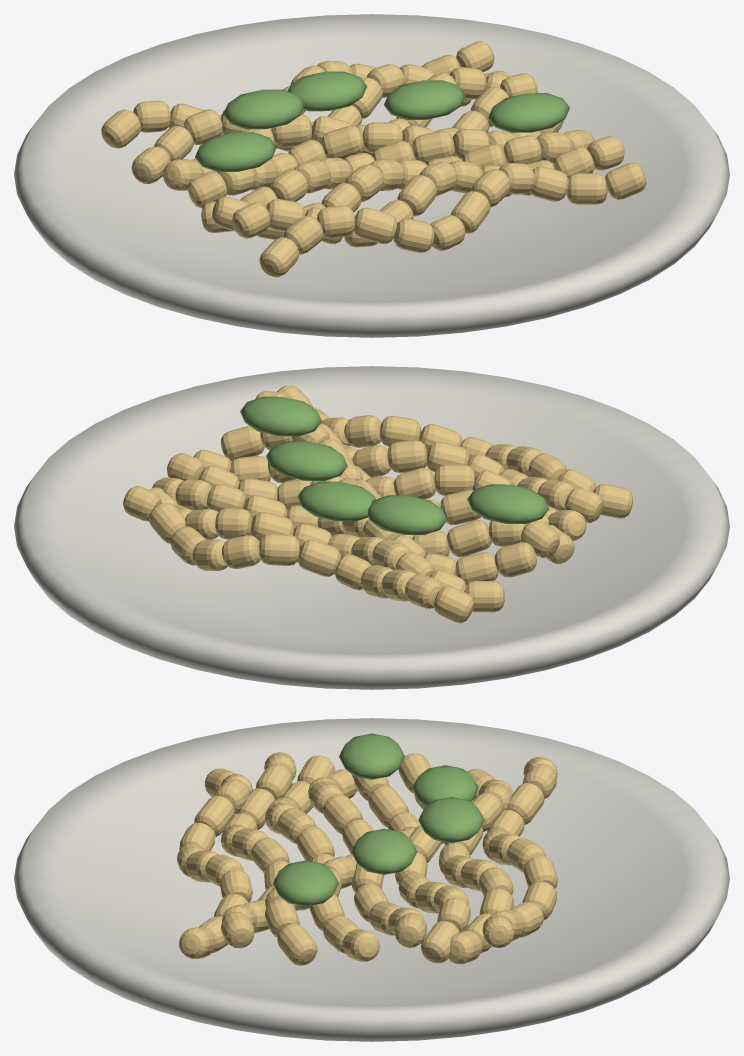
File: FoodNoodles.fbx
3 views of the same model, one above another, from view 1: azimuth 30°, elevation 25°; view 2: azimuth 150°, elevation 25°; view 3: azimuth 270°, elevation 25° (orthographic).
Visible parts, largest first — view 1: Ceramic rolled rim plate, Cabbage.001, Cabbage.003, Cabbage, Cabbage.004, Cabbage.002, Dry stir-fried noodle.003, Dry stir-fried noodle.010, Dry stir-fried noodle.011, Dry stir-fried noodle, Dry stir-fried noodle.004, Dry stir-fried noodle.053 (+46 smaller); view 2: Ceramic rolled rim plate, Cabbage.004, Cabbage, Cabbage.003, Cabbage.001, Cabbage.002, Dry stir-fried noodle.050, Dry stir-fried noodle.089, Dry stir-fried noodle.090, Dry stir-fried noodle.060, Dry stir-fried noodle.035, Dry stir-fried noodle.018 (+45 smaller); view 3: Ceramic rolled rim plate, Cabbage.003, Cabbage.004, Cabbage.002, Cabbage, Cabbage.001, Dry stir-fried noodle.035, Dry stir-fried noodle.071, Dry stir-fried noodle.050, Dry stir-fried noodle.003, Dry stir-fried noodle.086, Dry stir-fried noodle.039 (+44 smaller).
Boxes of the visible parts, box(x1,y1,x2,y2) form: Ceramic rolled rim plate: box(14, 14, 729, 337); Cabbage.001: box(223, 89, 304, 129); Cabbage.003: box(384, 80, 465, 119); Cabbage: box(195, 132, 276, 171); Cabbage.004: box(488, 93, 569, 132); Cabbage.002: box(287, 71, 366, 111); Dry stir-fried noodle.003: box(353, 207, 397, 243); Dry stir-fried noodle.010: box(566, 173, 607, 204); Dry stir-fried noodle.011: box(605, 162, 646, 199); Dry stir-fried noodle: box(259, 237, 299, 277); Dry stir-fried noodle.004: box(393, 218, 434, 252); Dry stir-fried noodle.053: box(321, 125, 364, 159); Ceramic rolled rim plate: box(14, 366, 729, 689); Cabbage.004: box(240, 396, 321, 436); Cabbage: box(467, 484, 548, 523); Cabbage.003: box(266, 441, 347, 480); Cabbage.001: box(367, 495, 447, 534); Cabbage.002: box(297, 481, 375, 521); Dry stir-fried noodle.050: box(447, 520, 491, 557); Dry stir-fried noodle.089: box(297, 539, 340, 576); Dry stir-fried noodle.090: box(259, 533, 299, 565); Dry stir-fried noodle.060: box(495, 542, 536, 577); Dry stir-fried noodle.035: box(221, 425, 264, 461); Dry stir-fried noodle.018: box(387, 440, 427, 472); Ceramic rolled rim plate: box(14, 718, 729, 1041); Cabbage.003: box(351, 828, 417, 874); Cabbage.004: box(273, 860, 338, 906); Cabbage.002: box(418, 797, 484, 843); Cabbage: box(339, 733, 404, 779); Cabbage.001: box(412, 765, 478, 806); Dry stir-fried noodle.035: box(277, 923, 317, 965); Dry stir-fried noodle.071: box(421, 921, 459, 963); Dry stir-fried noodle.050: box(368, 785, 408, 827); Dry stir-fried noodle.003: box(194, 795, 234, 836); Dry stir-fried noodle.086: box(507, 783, 544, 824); Dry stir-fried noodle.039: box(322, 794, 362, 834).
Bounding box in the file's own units: 41 × 9.4 × 41.
